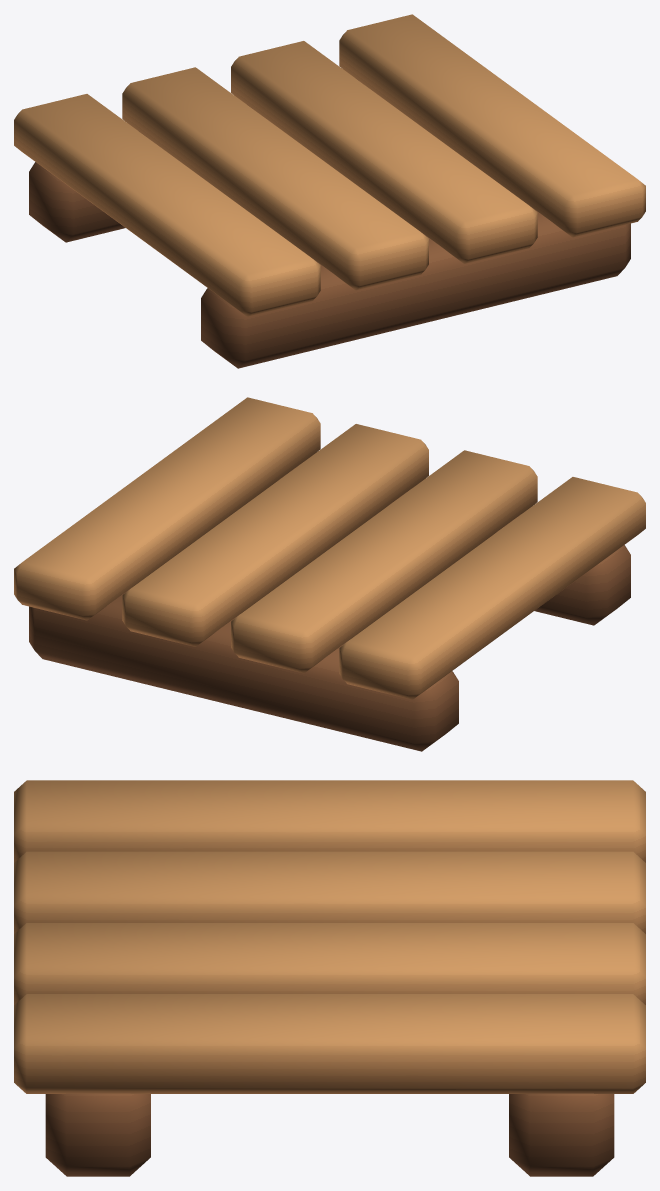
Rendered from pallet.glb.
The picture shows the model from 3 angles, top to bottom: view 1: azimuth 30°, elevation 25°; view 2: azimuth 150°, elevation 25°; view 3: azimuth 270°, elevation 25°; orthographic projection. The views are drawn at different scales.
Parts seen in each view (by area): view 1: pallet; view 2: pallet; view 3: pallet.
Part boxes in pixels (box(x1,y1,x2,y2)): pallet: box(14, 14, 645, 368); pallet: box(14, 397, 645, 751); pallet: box(14, 780, 645, 1176).
Bounding box in the file's own units: 0.3 × 0.075 × 0.3.
1 material, 1 textured.
